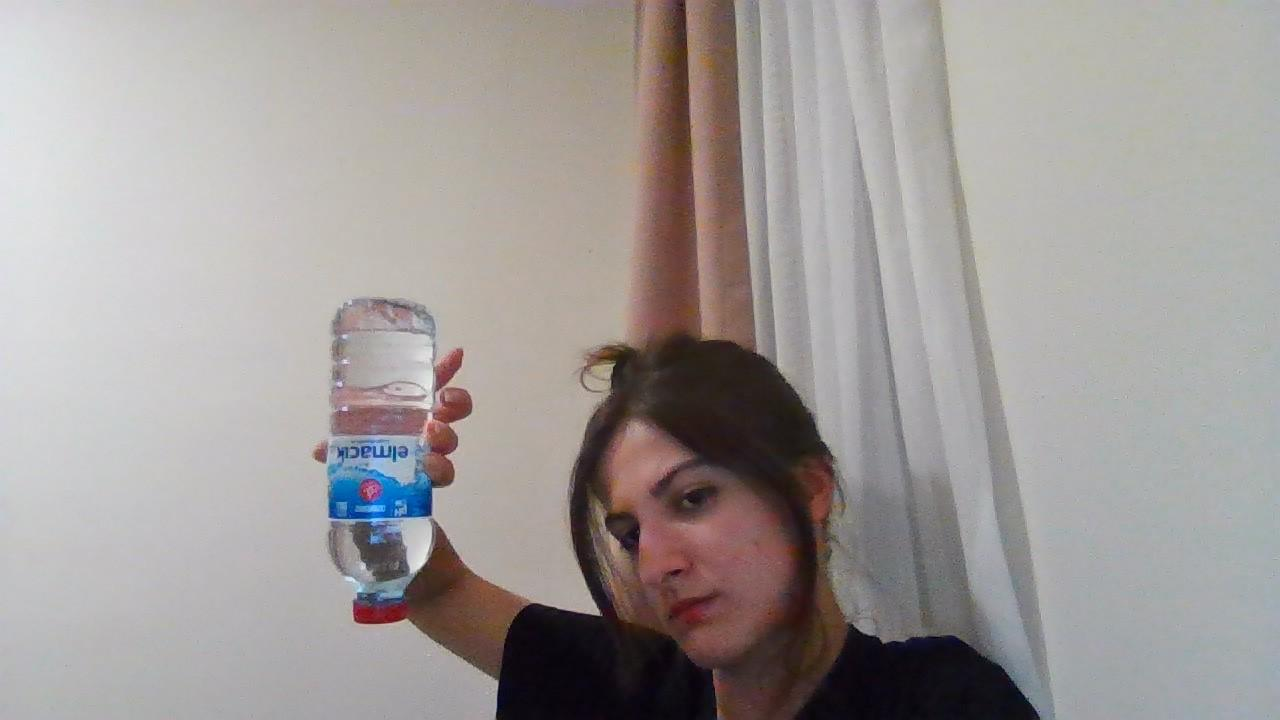bottle: (329, 299, 441, 622)
